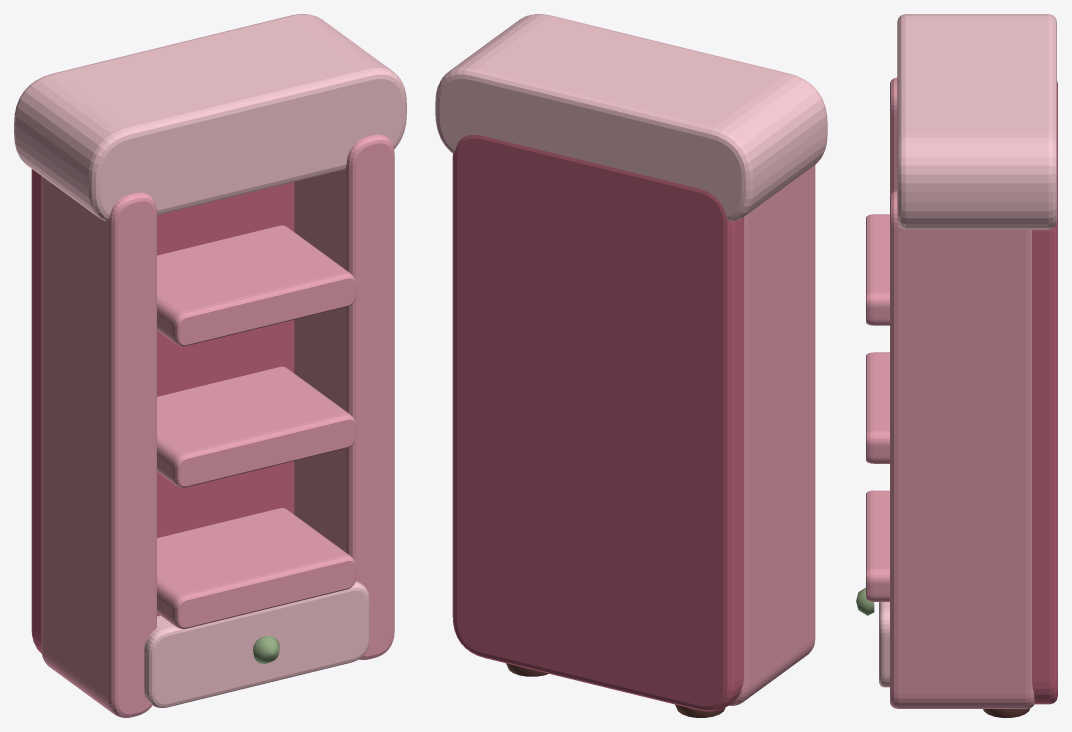
File: side-shelf.glb
3 views of the same model, side by side, from view 1: azimuth 30°, elevation 25°; view 2: azimuth 150°, elevation 25°; view 3: azimuth 270°, elevation 25° (orthographic). The views are drawn at different scales.
Visible parts, largest first — view 1: ShelfLeftPost, ShelfCrown, ShelfRightPost, ShelfBack, ShelfBoard2, ShelfBoard3, ShelfBoard1, ShelfDrawer, ShelfDrawerKnob; view 2: ShelfBack, ShelfCrown, ShelfLeftPost; view 3: ShelfRightPost, ShelfCrown, ShelfBack, ShelfBoard2, ShelfBoard3, ShelfBoard1, ShelfDrawer, ShelfLeftPost, ShelfFoot2.
Part boxes in pixels (left/top/right/bottom): ShelfLeftPost: left=41, top=176, right=156, bottom=717; ShelfCrown: left=14, top=14, right=406, bottom=221; ShelfRightPost: left=294, top=134, right=394, bottom=659; ShelfBack: left=31, top=169, right=294, bottom=653; ShelfBoard2: left=157, top=366, right=355, bottom=487; ShelfBoard3: left=157, top=225, right=355, bottom=346; ShelfBoard1: left=157, top=508, right=355, bottom=628; ShelfDrawer: left=144, top=581, right=369, bottom=707; ShelfDrawerKnob: left=253, top=636, right=279, bottom=663; ShelfBack: left=452, top=135, right=743, bottom=711; ShelfCrown: left=435, top=14, right=827, bottom=221; ShelfLeftPost: left=728, top=165, right=815, bottom=705; ShelfRightPost: left=890, top=191, right=1034, bottom=708; ShelfCrown: left=897, top=14, right=1056, bottom=229; ShelfBack: left=1032, top=81, right=1057, bottom=704; ShelfBoard2: left=866, top=352, right=889, bottom=463; ShelfBoard3: left=866, top=214, right=889, bottom=325; ShelfBoard1: left=866, top=490, right=889, bottom=601; ShelfDrawer: left=879, top=602, right=889, bottom=687; ShelfLeftPost: left=890, top=77, right=897, bottom=195; ShelfFoot2: left=983, top=708, right=1029, bottom=717.
Bounding box in the file's own units: 1.95 × 3.56 × 1.1.
